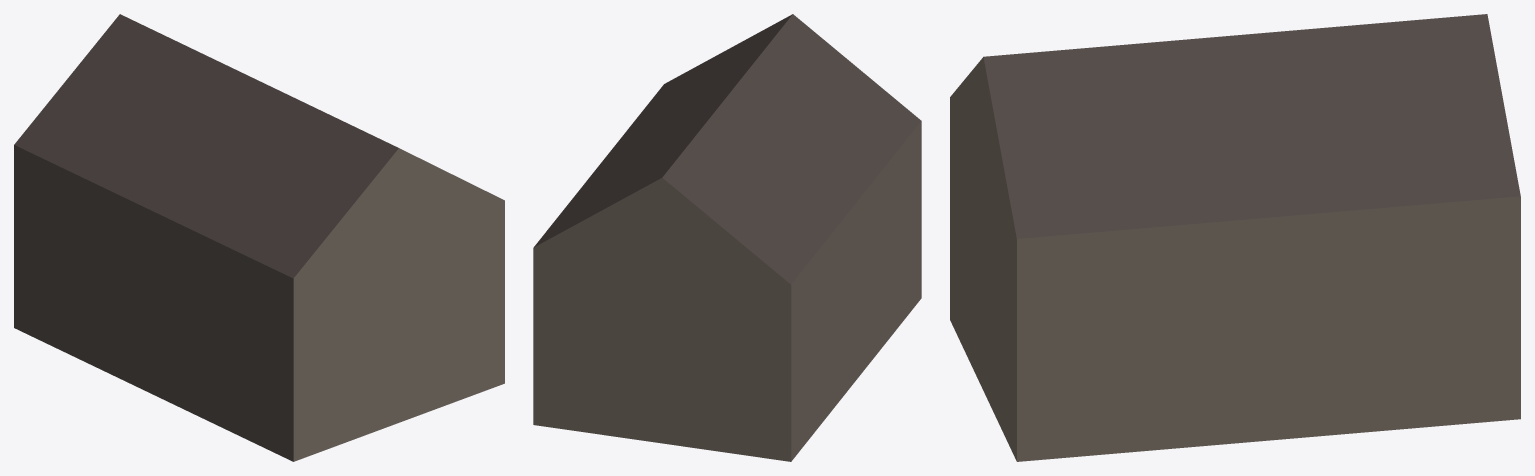
The picture shows the model from 3 angles, left to right: view 1: azimuth 30°, elevation 25°; view 2: azimuth 150°, elevation 25°; view 3: azimuth 270°, elevation 25°; orthographic projection. The views are drawn at different scales.
Visible parts, largest first — view 1: HP-w408450715; view 2: HP-w408450715; view 3: HP-w408450715.
Boxes of the visible parts, box(x1,y1,x2,y2) form: HP-w408450715: box(14, 14, 504, 461); HP-w408450715: box(533, 14, 921, 461); HP-w408450715: box(950, 14, 1520, 461).
Bounding box in the file's own units: 10.66 × 9 × 13.93.
